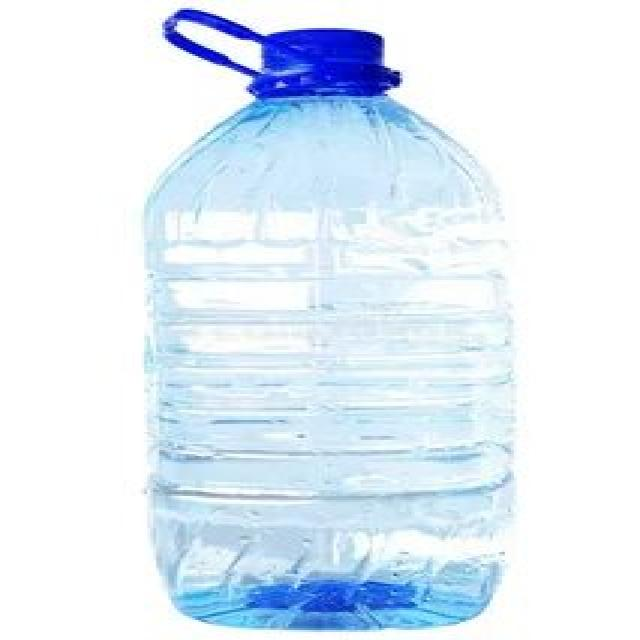blue: (146, 91, 508, 626)
